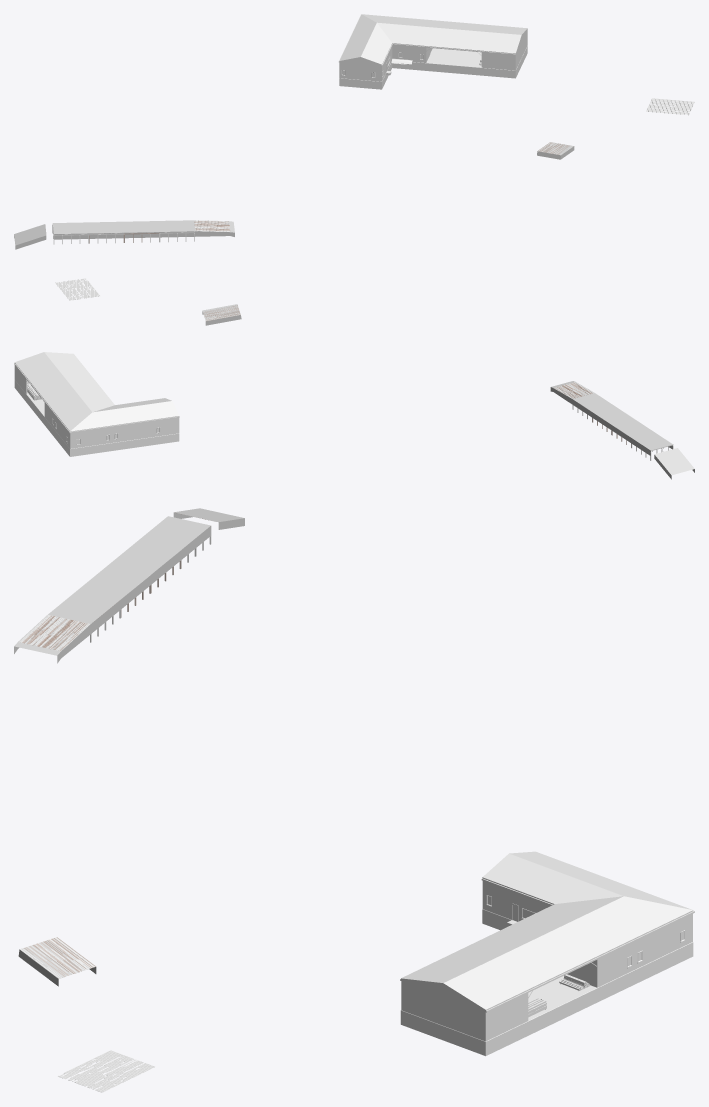
The model's file is eca_sawmill.dae.
3 views of the same model, one above another, from view 1: azimuth 30°, elevation 25°; view 2: azimuth 150°, elevation 25°; view 3: azimuth 270°, elevation 25° (orthographic). The views are drawn at different scales.
Parts seen in each view (by area): view 1: sawmill_mockups, Colmesh-1; view 2: sawmill_mockups, Colmesh-1; view 3: sawmill_mockups, Colmesh-1.
Boxes of the visible parts, <box> form: sawmill_mockups: <box>45,14,694,244</box>; Colmesh-1: <box>14,142,574,249</box>; sawmill_mockups: <box>14,278,673,460</box>; Colmesh-1: <box>202,304,694,479</box>; sawmill_mockups: <box>19,512,694,1092</box>; Colmesh-1: <box>14,508,244,986</box>.
Size of the model in its own units: 174 by 84.57 by 7.85.
